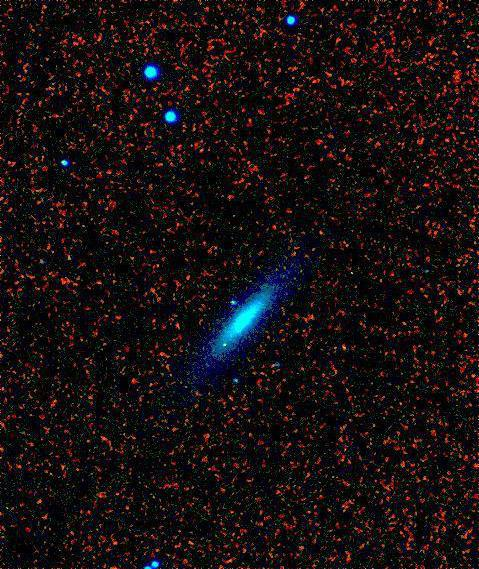star: (210, 331, 240, 361)
